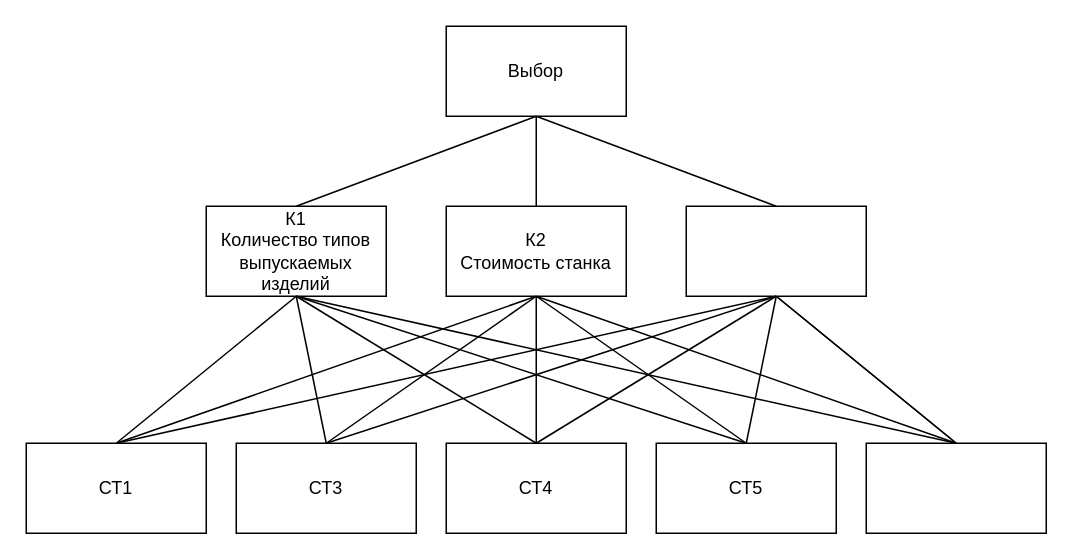
Some shapes in this 1073 by 560 pixel diagram are drawn without their labels. The centre of each missing label's shape, as x and y in pixels:
"К3 Переналадка на другой тип изделия" goes at point 775,250.
"СТ6" goes at point 955,487.
